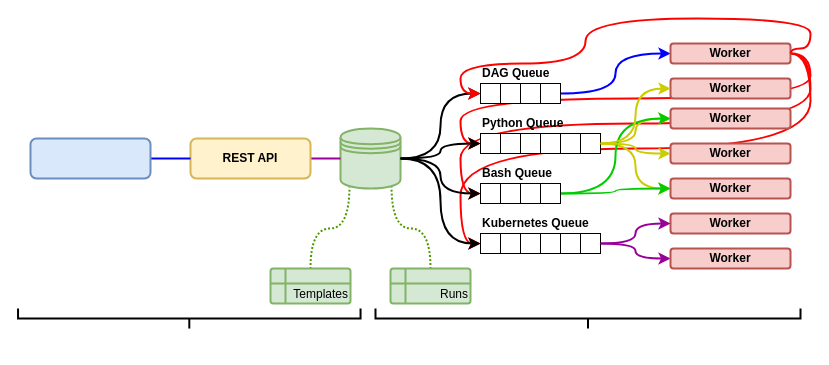
This 829x365 diagram has some shape labels left out. Here are the shapes that lost their labels. From the top down, the box of each, then its label:
(29, 137, 151, 179): User Interface
(339, 127, 401, 189): DB
(17, 307, 361, 329): Editor, API, templates version control, monitoring tools
(374, 307, 801, 329): Execution Engine - scalable pub/sub model
